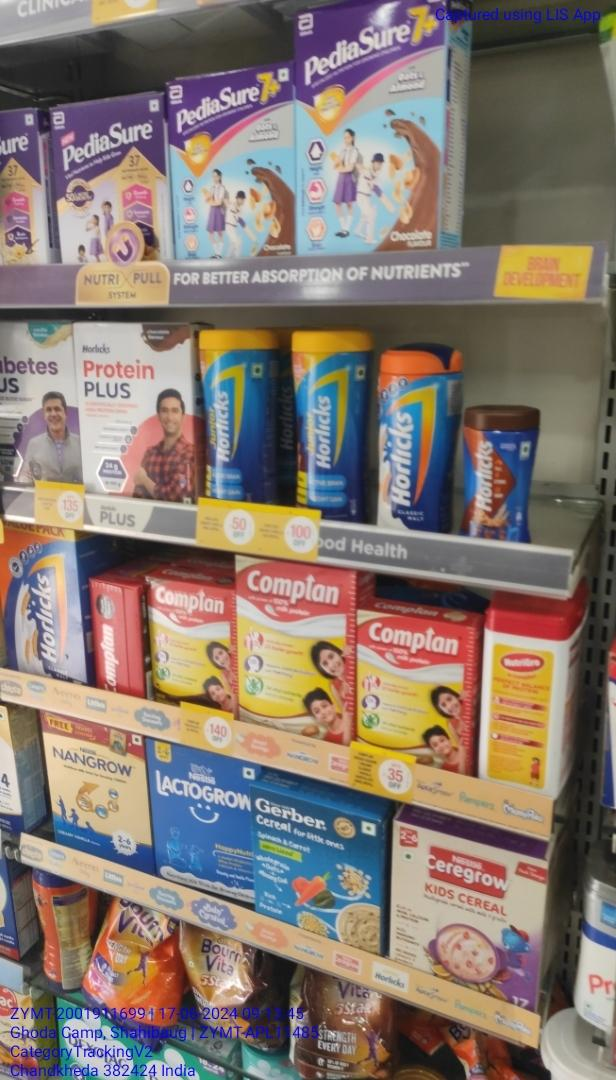COMPLAN_CHOCOLATE_200_GMS_PACK: (150, 580, 239, 708)
COMPLAN_KESAR_BADAM_200_GMS_PACK: (356, 608, 472, 758)
HORLICK_CLASSIC_MALT_500_G_JAR: (378, 342, 449, 527)
PEDIASURE_7_PLUS_CHOCOLATE_400_G_PACK: (170, 75, 291, 254)
PEDIASURE_CHOCOLATE_500_G_PACK: (60, 98, 166, 259)
